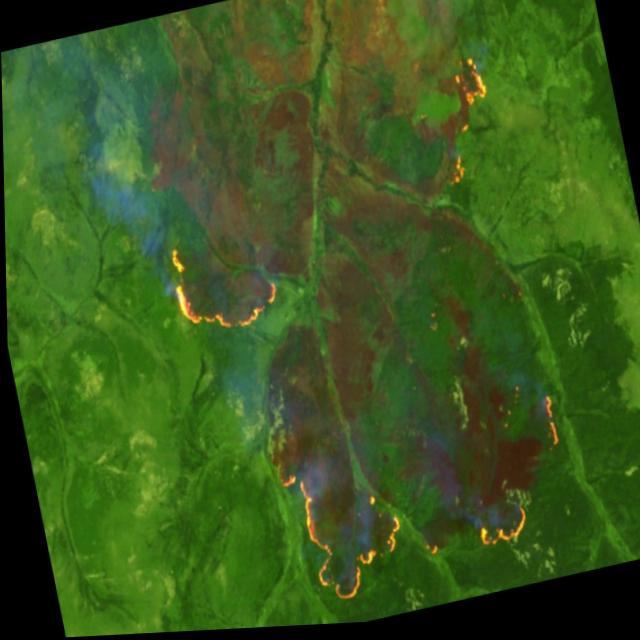fire: (264, 395, 585, 621), (163, 226, 285, 351), (422, 55, 505, 194)
